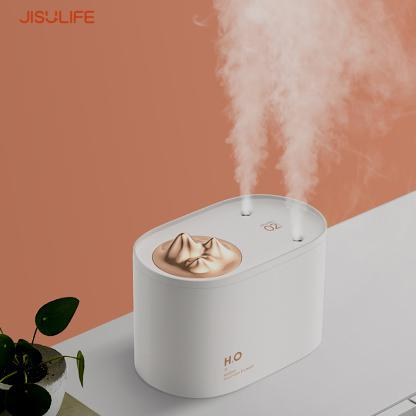smoke: (214, 0, 357, 224)
